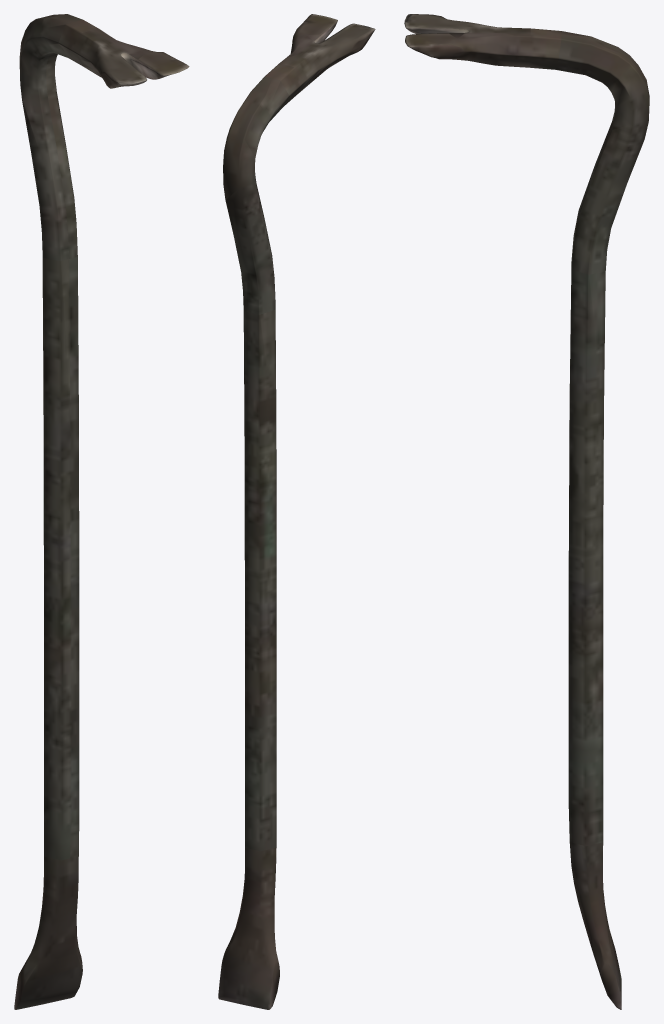
The model's file is cc0_crowbar.glb.
3 renders of one model, left to right at view 1: azimuth 30°, elevation 25°; view 2: azimuth 150°, elevation 25°; view 3: azimuth 270°, elevation 25°, orthographic. The views are drawn at different scales.
Visible parts, largest first — view 1: crowbar_01; view 2: crowbar_01; view 3: crowbar_01.
Part boxes in pixels (x1,y1,x2,y2): crowbar_01: (14,14,189,1009); crowbar_01: (218,14,375,1009); crowbar_01: (404,14,649,1009).
Size of the model in its own units: 0.0404 by 0.5554 by 0.1276.
Materials: 1 (1 with a texture image).
